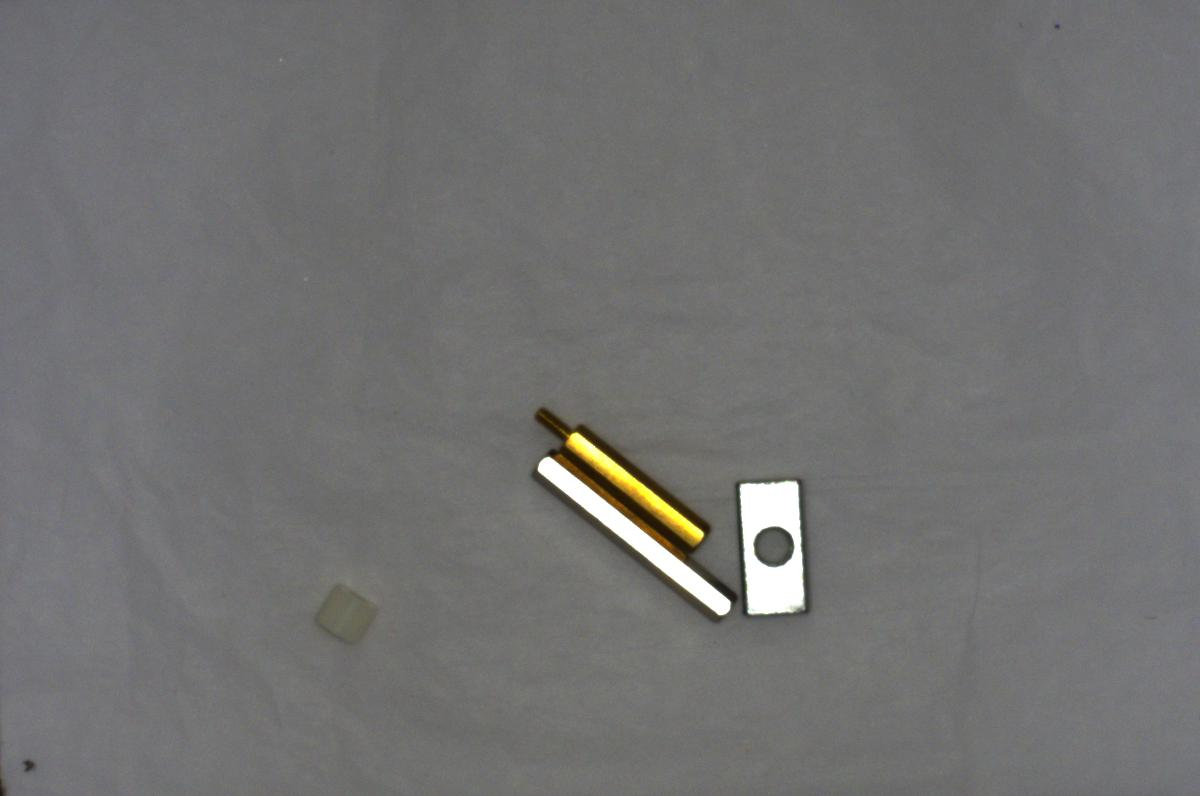Double hexagonal column: (528, 449, 739, 627)
Hexagon pillar: (526, 400, 714, 554)
Plastic cushion pillar: (308, 578, 386, 647)
Rectangular nut: (732, 470, 819, 626)
